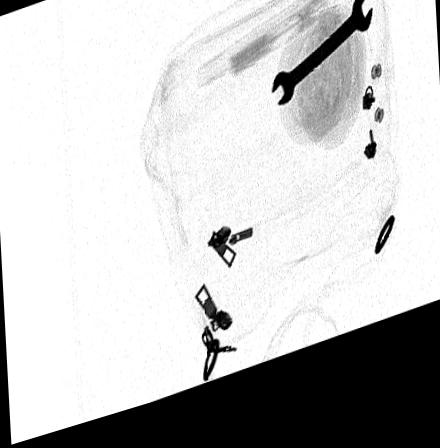Wrench: (271, 12, 373, 124)
